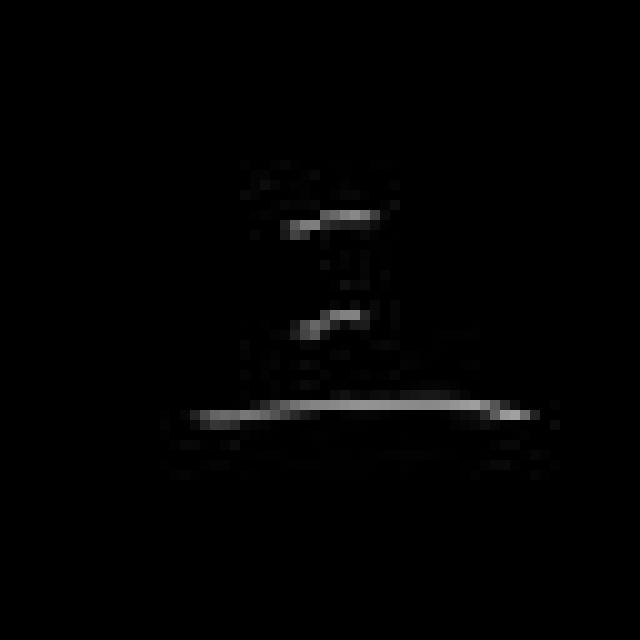3 -three-: (186, 192, 550, 453)
